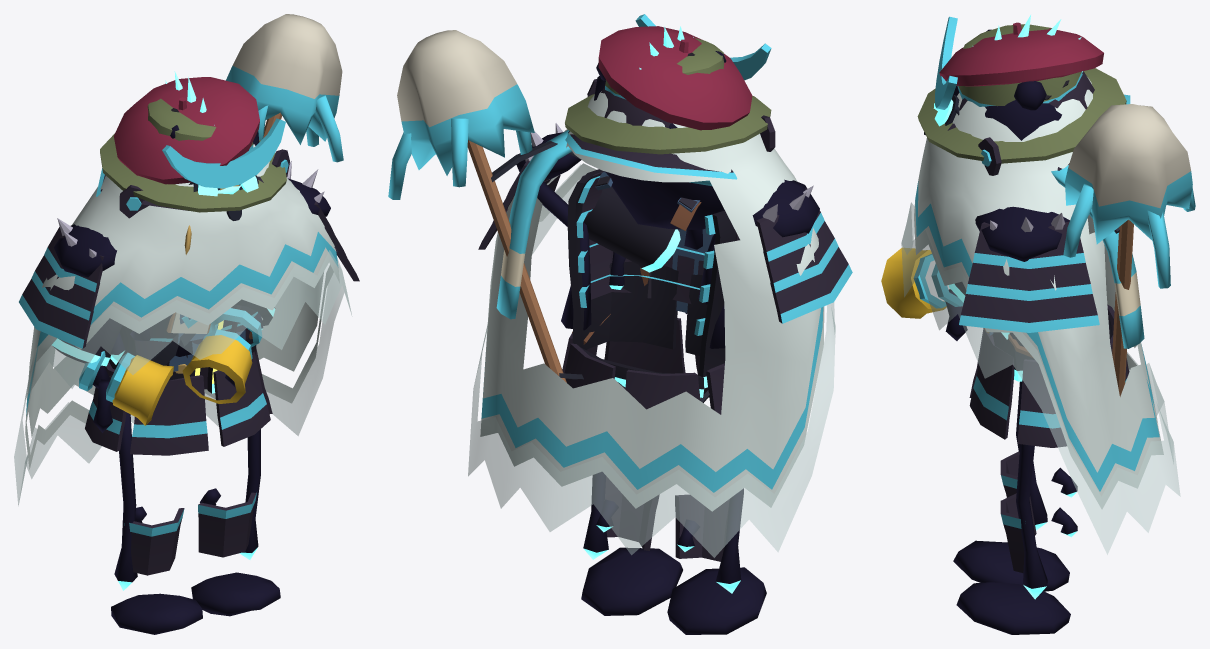
The model's file is cosmetic_outfits_b.glb.
3 renders of one model, left to right at view 1: azimuth 30°, elevation 25°; view 2: azimuth 150°, elevation 25°; view 3: azimuth 270°, elevation 25°, orthographic. The views are drawn at different scales.
Parts seen in each view (by area): view 1: GHOST_Body, JANITOR_Body, SAMURAI_Body, ART_CRITIC_Body, INK_GOLEM_LegR, INK_GOLEM_LegL, INK_GOLEM_Body, CYBERPUNK_Body, SAMURAI_LegL, GHOST_Head, SAMURAI_LegR, MIME_Body; view 2: GHOST_Body, JANITOR_Body, SAMURAI_Body, CYBERPUNK_Body, ART_CRITIC_Body, INK_GOLEM_LegL, INK_GOLEM_LegR, INK_GOLEM_Body, INK_GOLEM_Head, GHOST_Head, SAMURAI_LegR, MIME_Body (+1 smaller); view 3: GHOST_Body, JANITOR_Body, SAMURAI_Body, ART_CRITIC_Body, INK_GOLEM_LegL, GHOST_Head, INK_GOLEM_LegR, INK_GOLEM_Body, INK_GOLEM_Head, CYBERPUNK_Body, MIME_Body, SAMURAI_LegL (+1 smaller).
Boxes of the visible parts, bbox=[...] form: GHOST_Body: bbox=[14, 178, 352, 505]; JANITOR_Body: bbox=[100, 14, 343, 425]; SAMURAI_Body: bbox=[19, 118, 359, 455]; ART_CRITIC_Body: bbox=[113, 77, 259, 339]; INK_GOLEM_LegR: bbox=[111, 412, 202, 634]; INK_GOLEM_LegL: bbox=[191, 429, 280, 616]; INK_GOLEM_Body: bbox=[54, 178, 330, 432]; CYBERPUNK_Body: bbox=[52, 71, 324, 393]; SAMURAI_LegL: bbox=[198, 492, 256, 557]; GHOST_Head: bbox=[100, 144, 283, 223]; SAMURAI_LegR: bbox=[124, 508, 184, 575]; MIME_Body: bbox=[79, 108, 262, 402]; GHOST_Body: bbox=[468, 129, 835, 557]; JANITOR_Body: bbox=[388, 30, 771, 402]; SAMURAI_Body: bbox=[478, 14, 852, 414]; CYBERPUNK_Body: bbox=[525, 26, 813, 397]; ART_CRITIC_Body: bbox=[496, 26, 752, 344]; INK_GOLEM_LegL: bbox=[581, 472, 682, 615]; INK_GOLEM_LegR: bbox=[667, 488, 766, 634]; INK_GOLEM_Body: bbox=[516, 132, 819, 348]; INK_GOLEM_Head: bbox=[594, 51, 726, 229]; GHOST_Head: bbox=[567, 91, 767, 182]; SAMURAI_LegR: bbox=[675, 494, 740, 561]; MIME_Body: bbox=[576, 52, 715, 335]; GHOST_Body: bbox=[901, 138, 1180, 554]; JANITOR_Body: bbox=[881, 24, 1195, 396]; SAMURAI_Body: bbox=[935, 16, 1130, 447]; ART_CRITIC_Body: bbox=[939, 22, 1144, 358]; INK_GOLEM_LegL: bbox=[956, 444, 1077, 634]; GHOST_Head: bbox=[924, 77, 1092, 176]; INK_GOLEM_LegR: bbox=[953, 381, 1077, 591]; INK_GOLEM_Body: bbox=[945, 206, 1069, 340]; INK_GOLEM_Head: bbox=[933, 29, 1061, 140]; CYBERPUNK_Body: bbox=[948, 15, 1112, 381]; MIME_Body: bbox=[913, 80, 1069, 333]; SAMURAI_LegL: bbox=[1000, 493, 1025, 572].
Bounding box in the file's own units: 1.14 × 1.69 × 0.8094.
